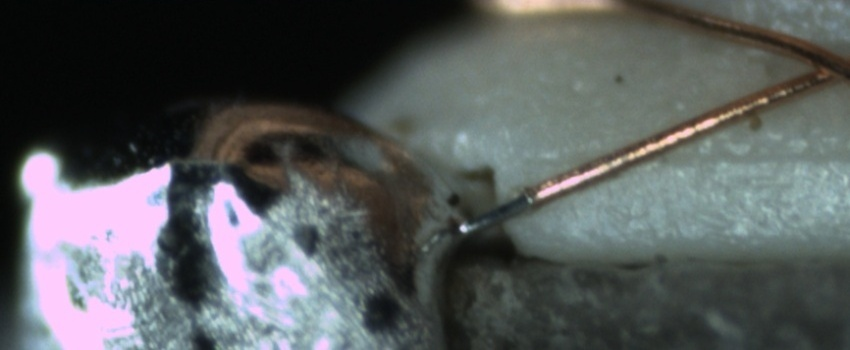CL: (791, 39, 849, 90)
DL: (552, 125, 850, 189)
TS: (455, 192, 533, 241)
TTCW: (455, 165, 577, 244)
